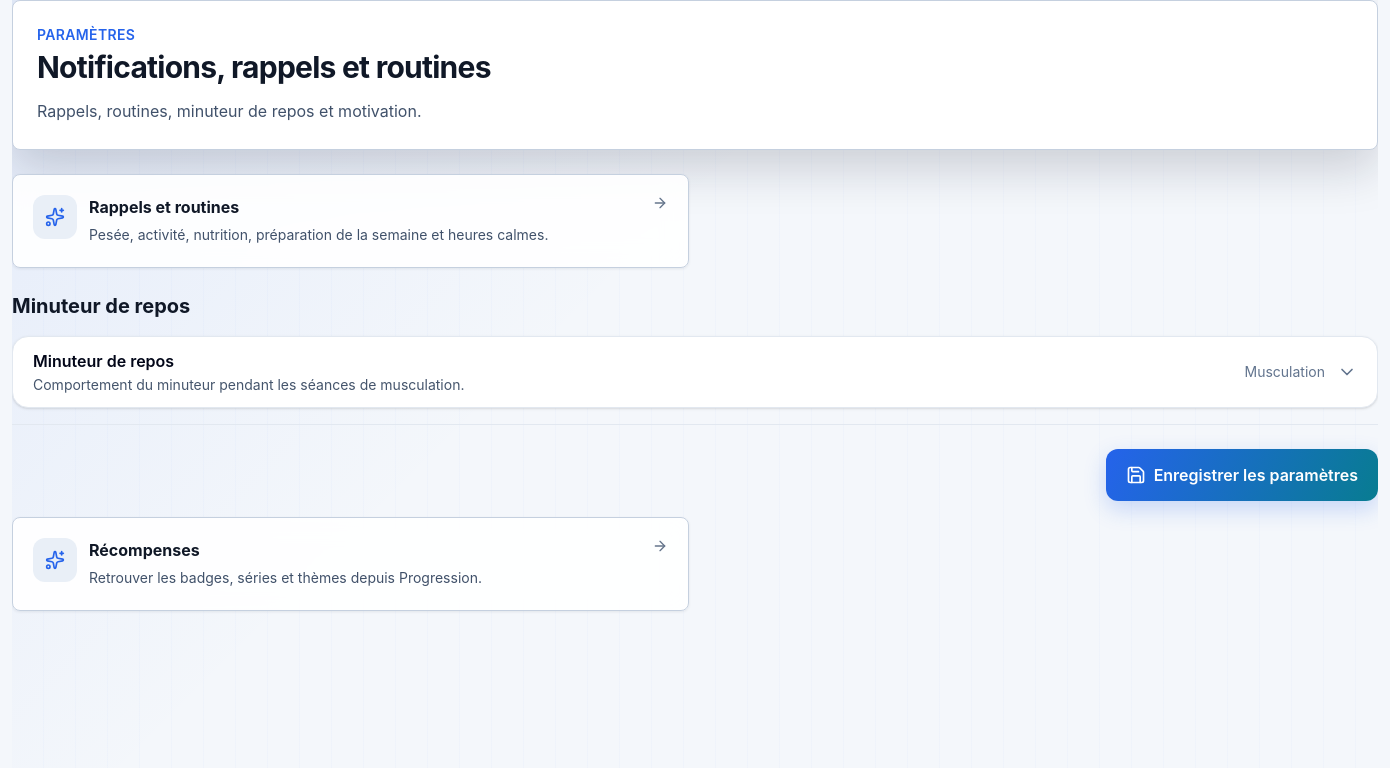
Test: SettingsCategoryPage › affiche localement le résultat de la sauvegarde des réglages
Click the button "Enregistrer les paramètres".
click(1242, 475)  # box [1106, 449, 1378, 501]
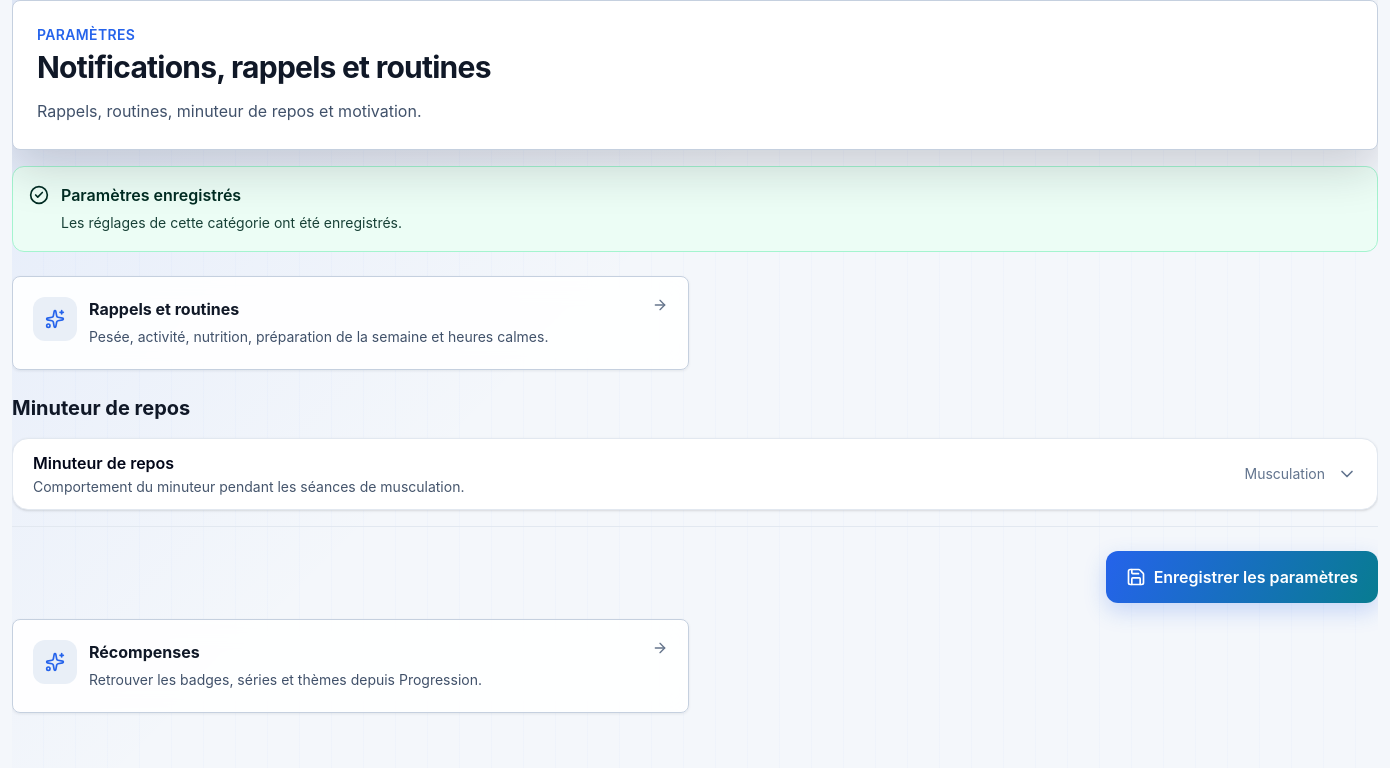
Now the text "Les réglages de cette catégorie ont été enregistrés." is shown, box [61, 211, 402, 235]
